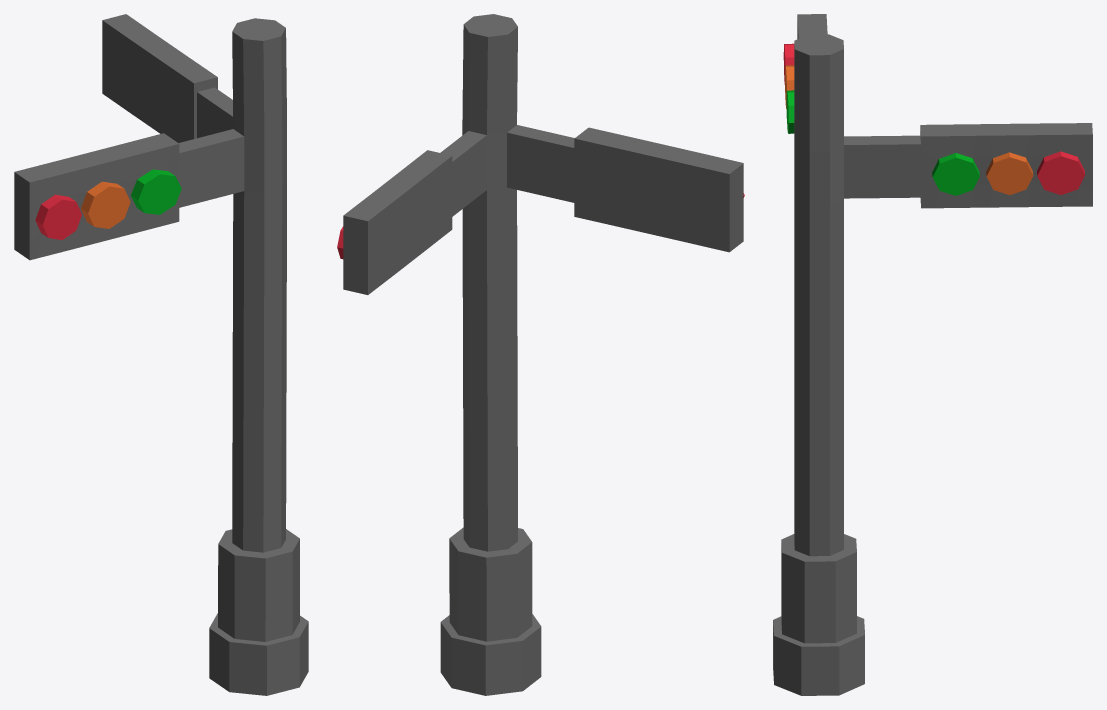
File: trafficLight.fbx
3 views of the same model, side by side, from view 1: azimuth 30°, elevation 25°; view 2: azimuth 150°, elevation 25°; view 3: azimuth 270°, elevation 25° (orthographic). The views are drawn at different scales.
Visible parts, largest first — view 1: Cylinder.001; view 2: Cylinder.001; view 3: Cylinder.001.
Boxes of the visible parts, left/top/right/bottom form: Cylinder.001: left=14, top=14, right=308, bottom=695; Cylinder.001: left=337, top=14, right=744, bottom=695; Cylinder.001: left=773, top=14, right=1092, bottom=695.
Bounding box in the file's own units: 646 × 1414 × 649.
